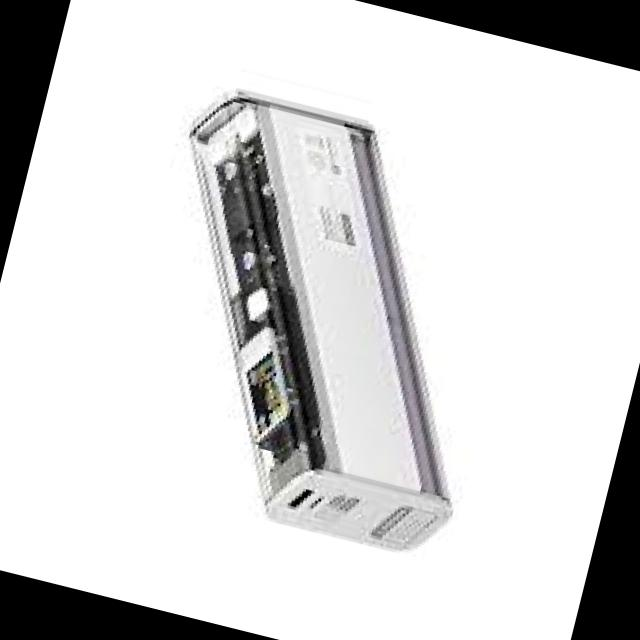portable-charger: (92, 80, 549, 571)
